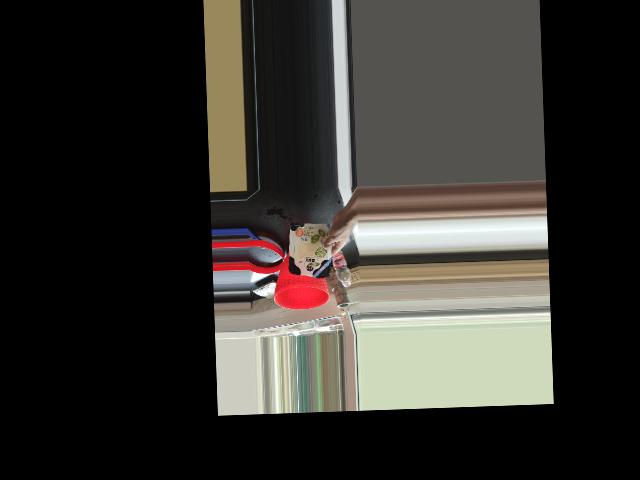cheese: (287, 226, 343, 279)
